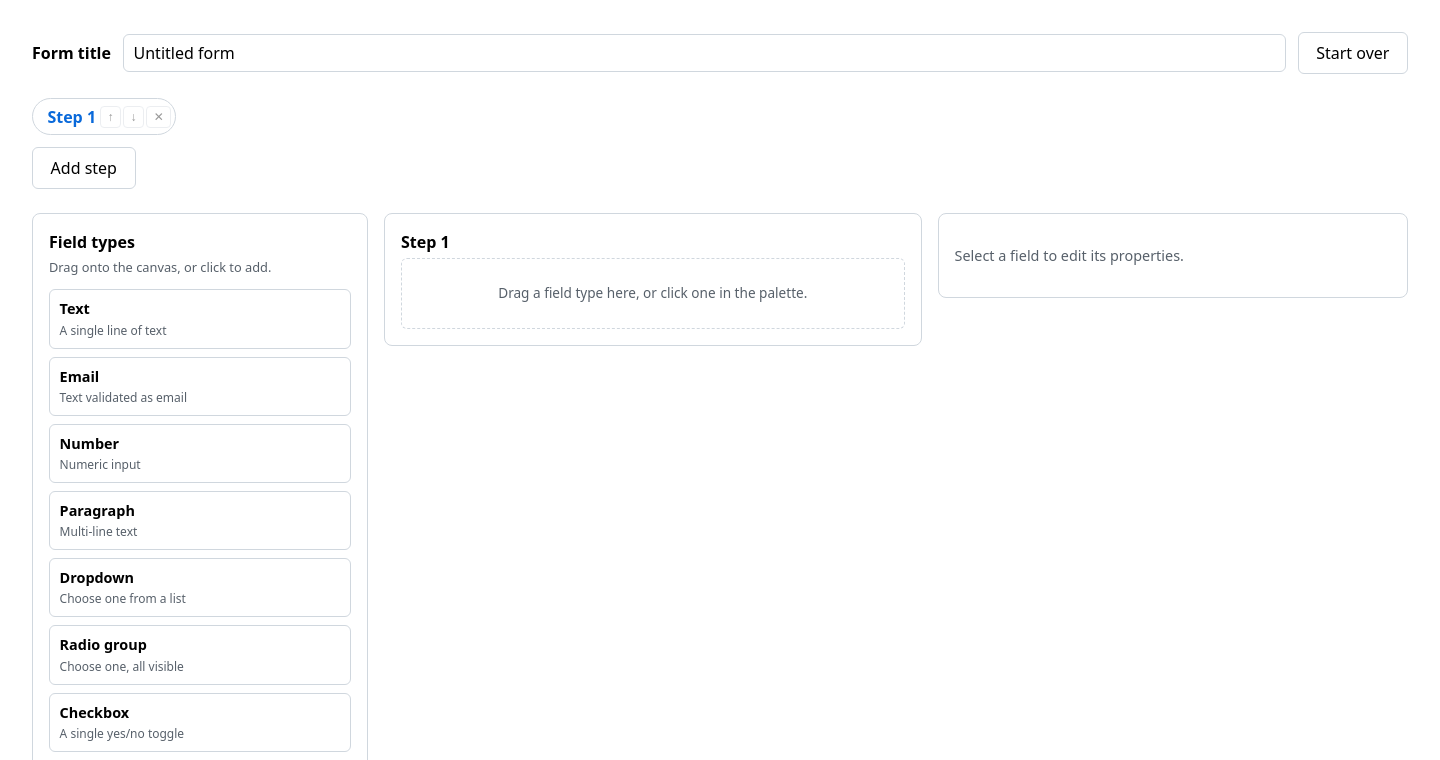
Test: BuilderPage › adding a step and switching to it shows its own (empty) canvas
Click the button "Add step" at (84, 168), box [32, 147, 136, 189]
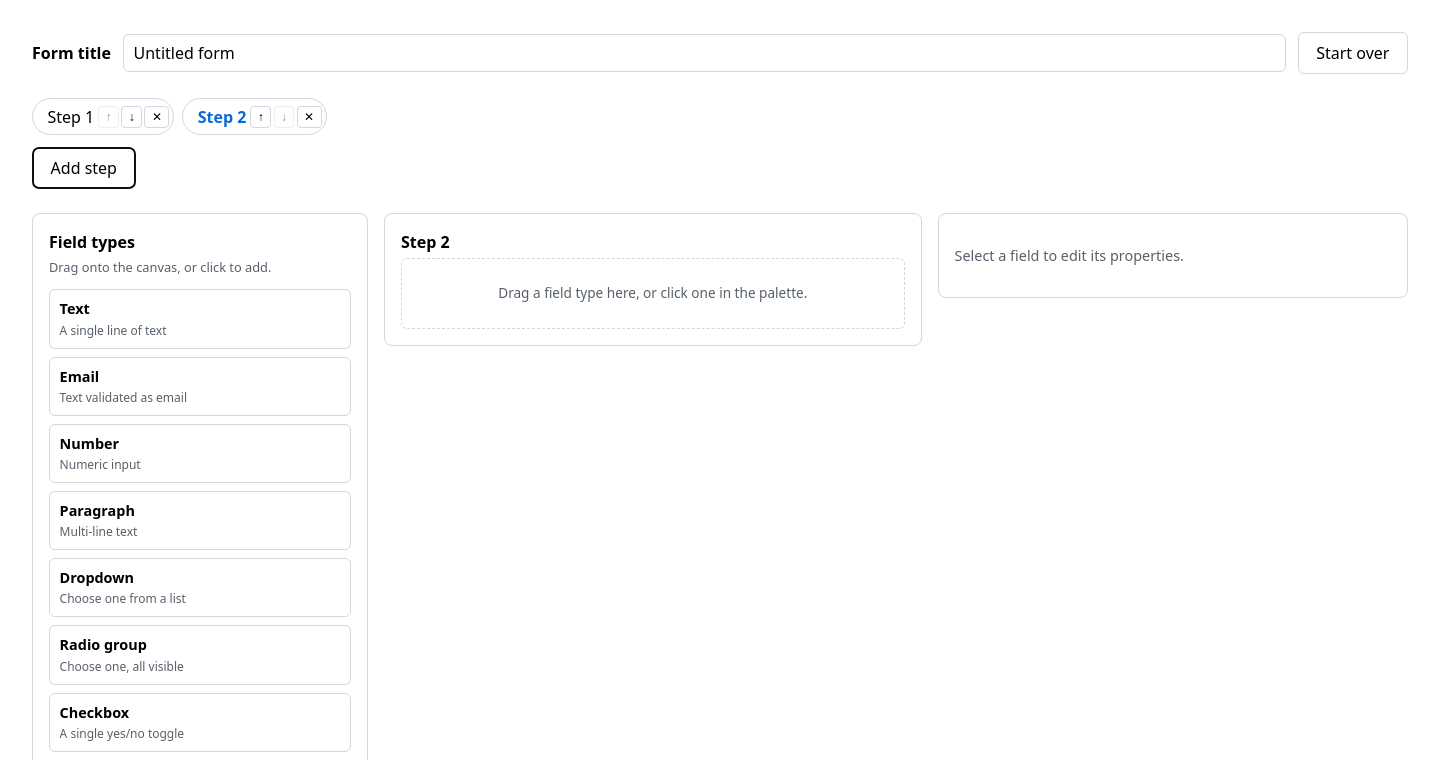
Check: the list item "Drag a field type here, or click one in the palette." is shown, box [401, 258, 905, 329]
Check: the heading "Step 2" is shown, box [401, 231, 450, 253]
